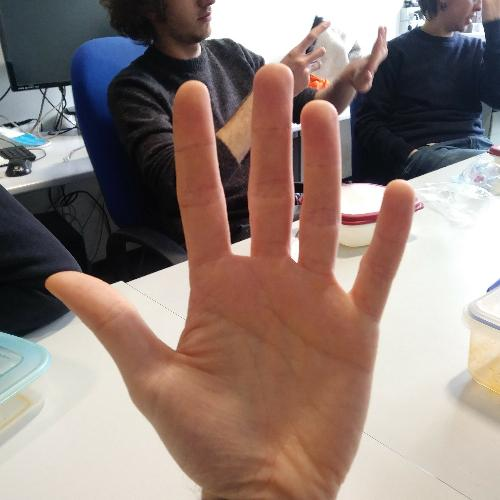paper: (39, 57, 432, 499)
